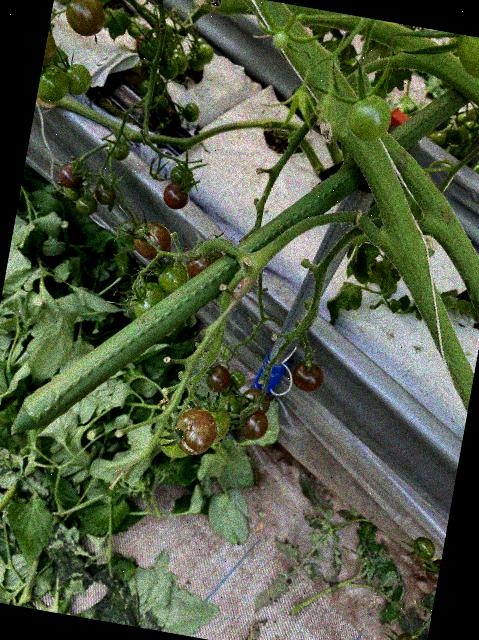l_fully_ripened: (288, 358, 325, 394), (159, 180, 190, 211), (54, 161, 82, 189), (422, 557, 440, 586)
l_green: (342, 91, 394, 144), (193, 400, 232, 442), (35, 64, 71, 104), (154, 257, 190, 295), (128, 284, 164, 321), (155, 425, 192, 460), (451, 34, 479, 79), (60, 62, 93, 97), (212, 394, 241, 424), (411, 535, 437, 562), (167, 163, 193, 189), (136, 34, 163, 59), (72, 192, 98, 216), (105, 138, 131, 161), (193, 42, 214, 65), (61, 181, 84, 202), (458, 120, 479, 143), (427, 129, 450, 150), (226, 369, 245, 391), (181, 101, 200, 122), (269, 29, 289, 48)
l_half_ripened: (169, 405, 219, 458), (128, 218, 175, 263), (59, 0, 107, 39), (182, 241, 223, 283), (233, 404, 270, 442), (237, 386, 271, 414), (203, 363, 231, 394), (41, 29, 57, 67), (92, 181, 116, 206), (394, 630, 424, 640)
